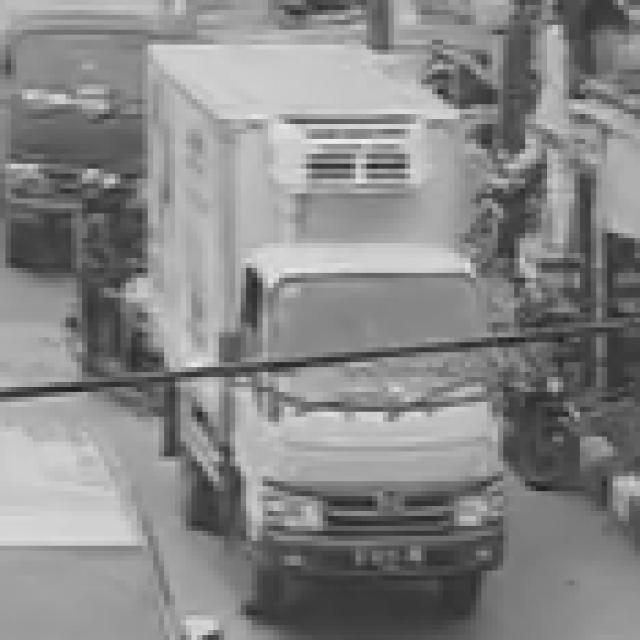Truck: (138, 19, 558, 617)
